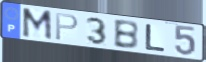3: (85, 16, 109, 46)
5: (173, 25, 197, 58)
B: (112, 19, 140, 51)
L: (144, 23, 168, 53)
M: (21, 7, 54, 43)
P: (54, 12, 80, 42)
